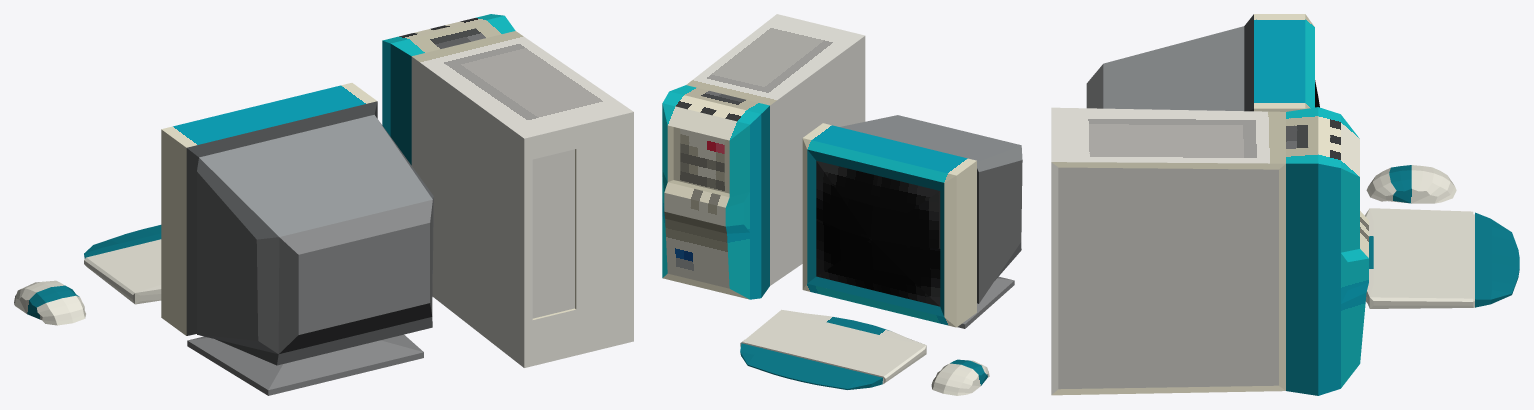
Rendered from system_settings_model.gltf.
The picture shows the model from 3 angles, left to right: view 1: azimuth 30°, elevation 25°; view 2: azimuth 150°, elevation 25°; view 3: azimuth 270°, elevation 25°; orthographic projection. The views are drawn at different scales.
Parts seen in each view (by area): view 1: monitor, tower, keyboard, mouse; view 2: tower, monitor, keyboard, mouse; view 3: tower, monitor, keyboard, mouse.
Boxes of the visible parts, x1,y1,x2,y2 form: monitor: (161, 83, 433, 395); tower: (382, 14, 633, 367); keyboard: (84, 225, 161, 304); mouse: (14, 280, 85, 325); tower: (662, 14, 865, 299); monitor: (802, 115, 1022, 328); keyboard: (740, 309, 926, 389); mouse: (931, 359, 989, 395); tower: (1051, 107, 1368, 395); monitor: (1086, 14, 1319, 111); keyboard: (1364, 208, 1519, 308); mouse: (1366, 165, 1456, 203).
Size of the model in its own units: 2.47 by 1.25 by 2.27.
Materials: 1 (1 with a texture image).
